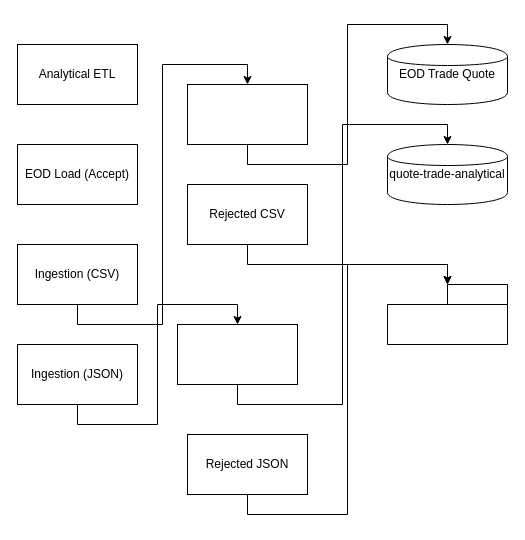
The diagram is 525 pixels wide and 540 high, and some of its shapes have lost their labels. The shapes that lost their labels are listed below. From the top down, each one's centre as x and y in pixels, then its label:
At (x=247, y=114): "Accepted CSV".
At (x=447, y=314): "Rejected Files".
At (x=237, y=354): "Accepted JSON".
